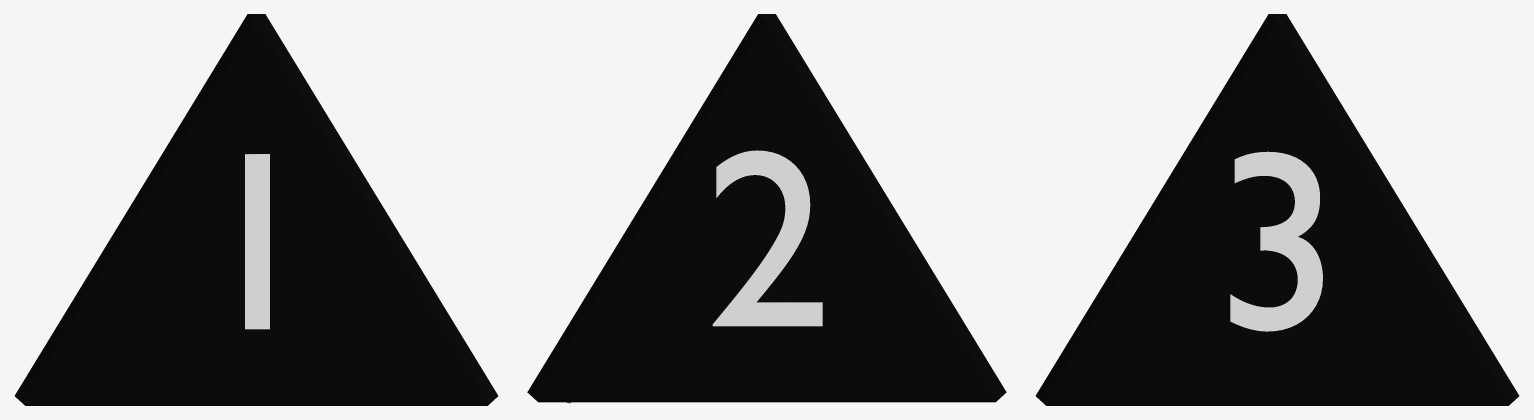
File: dadu.fbx
3 renders of one model, left to right at view 1: azimuth 30°, elevation 25°; view 2: azimuth 150°, elevation 25°; view 3: azimuth 270°, elevation 25°, orthographic.
Parts seen in each view (by area): view 1: Dice.004; view 2: Dice.004; view 3: Dice.004.
Part boxes in pixels (box(x1,y1,x2,y2)): Dice.004: box(14, 14, 498, 405); Dice.004: box(527, 14, 1006, 403); Dice.004: box(1035, 14, 1519, 405).
Bounding box in the file's own units: 2375 × 2097 × 2742.
